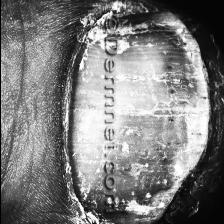Toxin: (70, 18, 206, 224)
